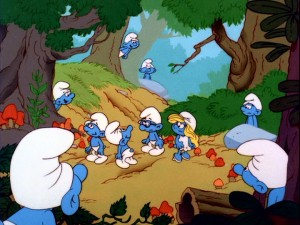smurf: (1, 128, 89, 225), (236, 139, 290, 207), (104, 119, 139, 169), (167, 111, 199, 162), (136, 106, 165, 157), (83, 111, 109, 164), (238, 92, 263, 127), (50, 81, 75, 112), (118, 32, 140, 59), (138, 56, 157, 80)
